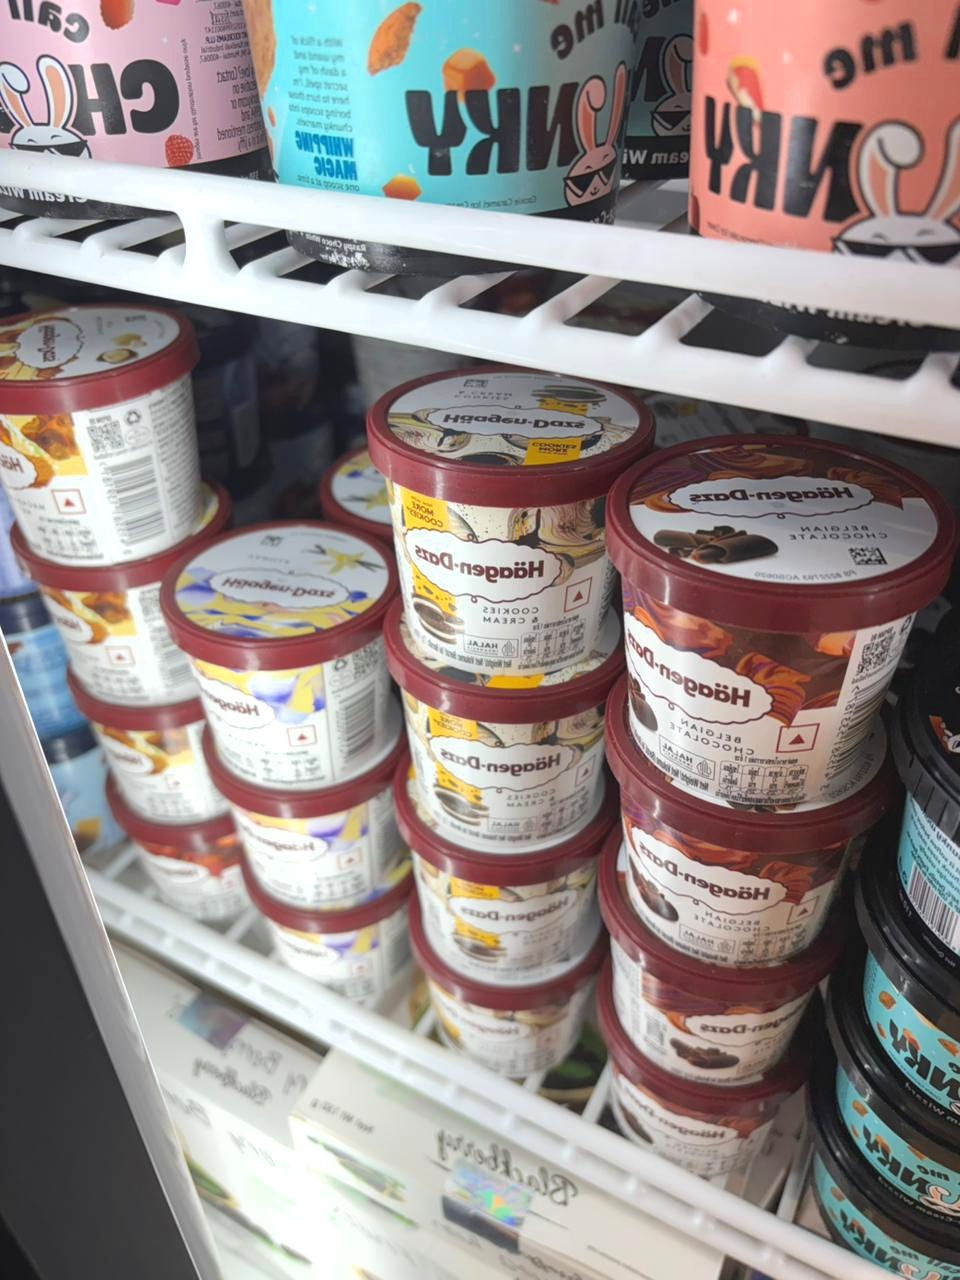Haagen-Dazs IceCream Tub: (607, 461, 953, 792), (619, 705, 895, 978), (388, 374, 636, 656), (183, 516, 405, 797), (378, 615, 610, 852), (601, 876, 845, 1090), (0, 311, 195, 567), (17, 499, 225, 703), (205, 738, 417, 909), (410, 801, 600, 982), (98, 668, 222, 831)
